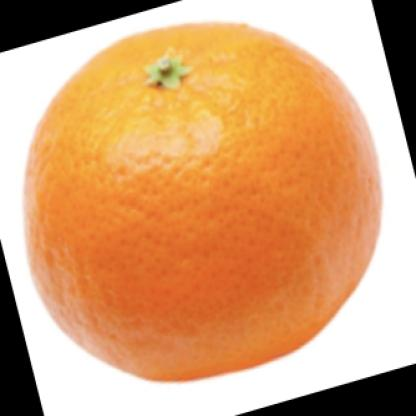fresh: (24, 23, 384, 385)
